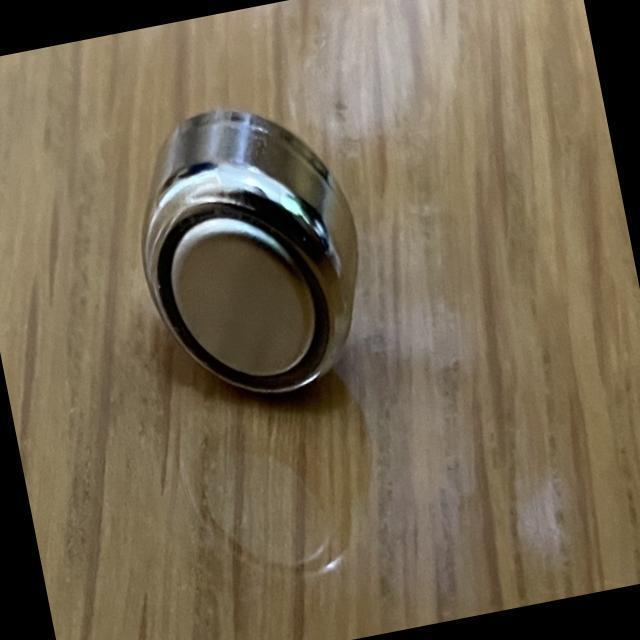COIN: (115, 84, 386, 418)
